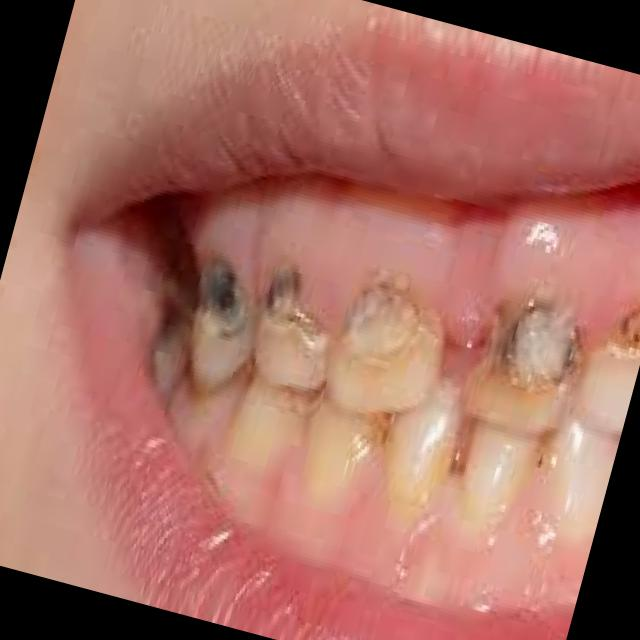caries: (483, 260, 604, 412), (255, 256, 344, 368), (180, 248, 264, 358)
